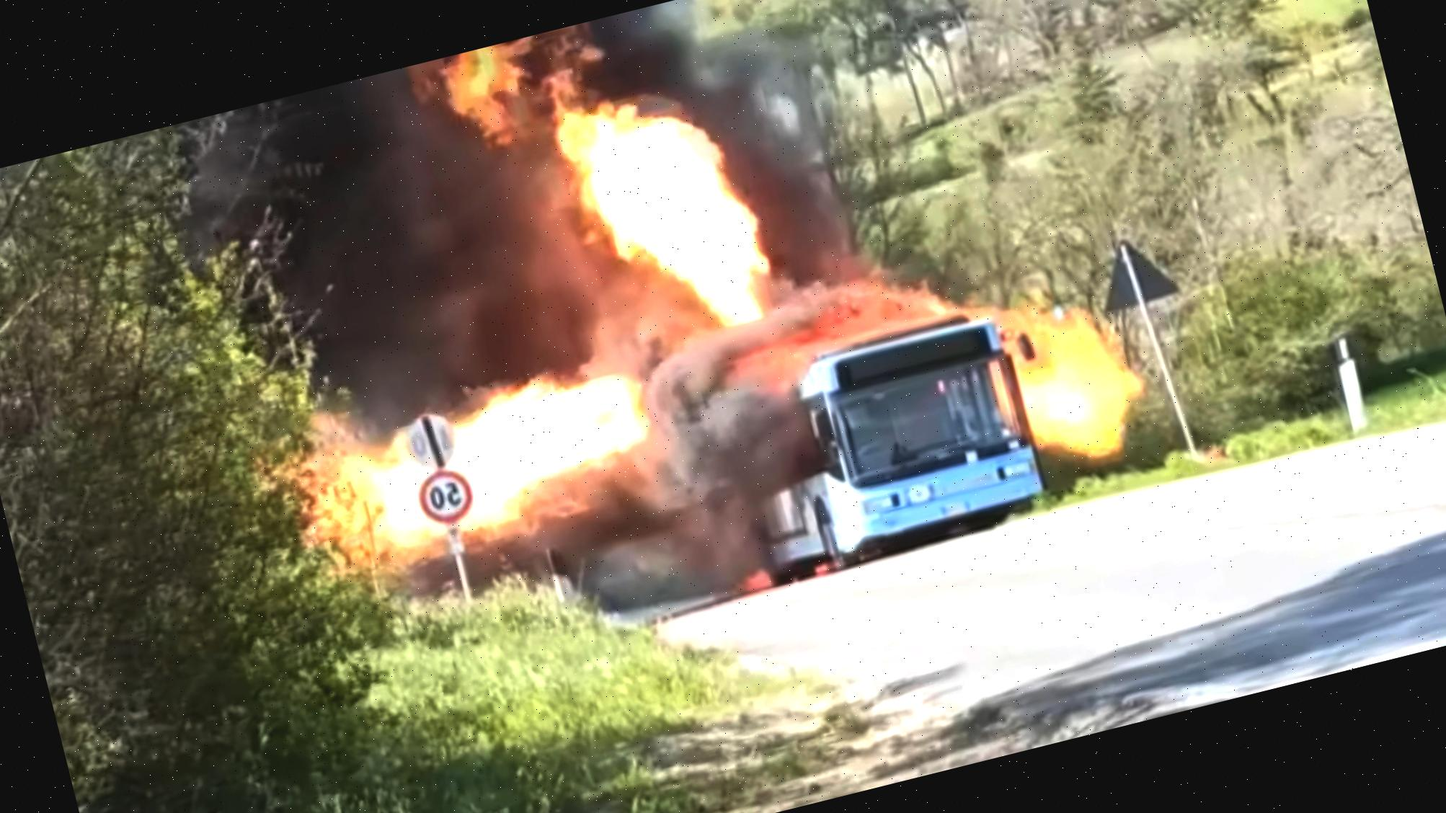fire: (880, 232, 1189, 490), (278, 374, 655, 583), (542, 84, 754, 337)
smoke: (213, 93, 590, 439), (626, 263, 882, 476)
